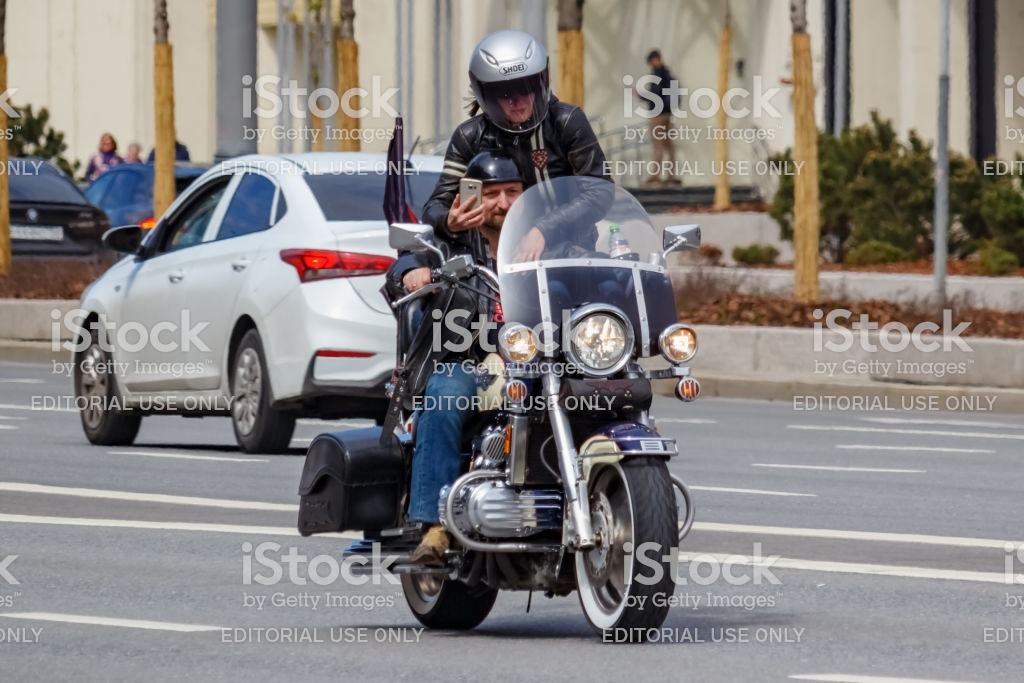helmet: (467, 35, 555, 122)
